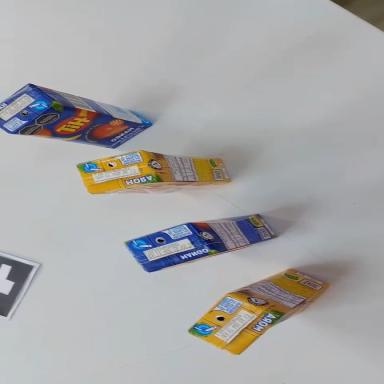HIT-MANGO: (0, 77, 154, 168), (124, 201, 277, 277)
HIT-MORA: (184, 243, 332, 370), (77, 146, 231, 195)
cara_F: (11, 95, 152, 163)
